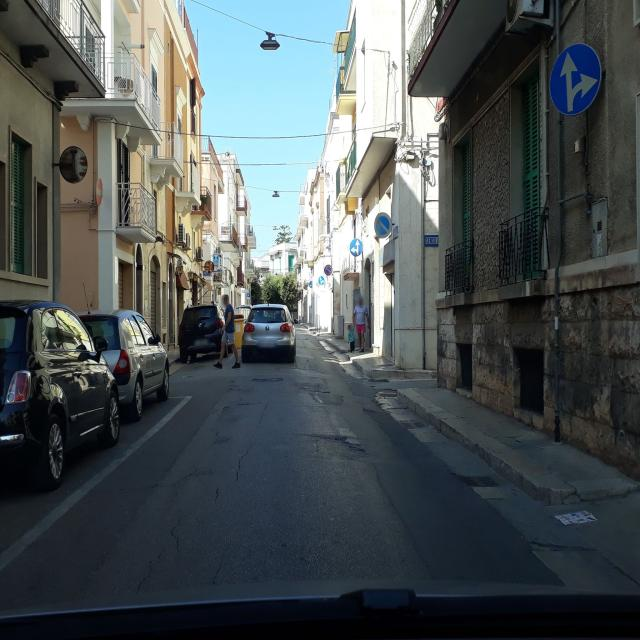forb_stopping: (375, 215, 393, 236), (324, 265, 333, 276)
